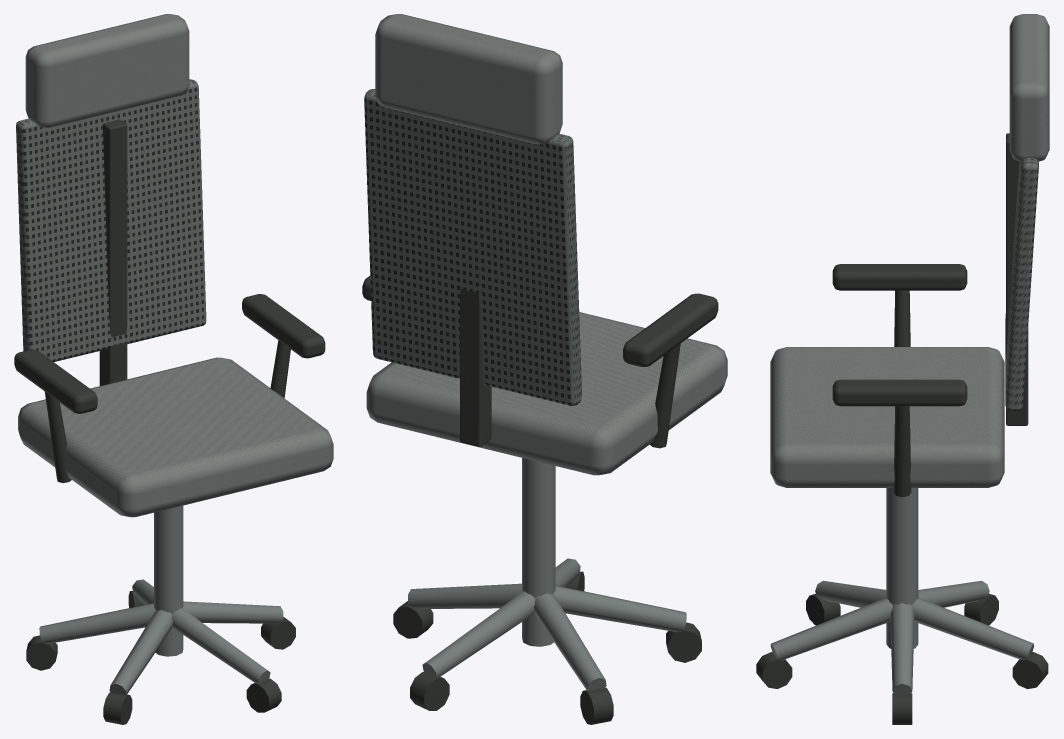
Rendered from markus-mobile.glb.
3 views of the same model, side by side, from view 1: azimuth 30°, elevation 25°; view 2: azimuth 150°, elevation 25°; view 3: azimuth 270°, elevation 25° (orthographic). The views are drawn at different scales.
Parts seen in each view (by area): view 1: MARKUS Office chair; view 2: MARKUS Office chair; view 3: MARKUS Office chair.
Part boxes in pixels (box(x1,y1,x2,y2)): MARKUS Office chair: box(14, 14, 333, 724); MARKUS Office chair: box(362, 14, 727, 724); MARKUS Office chair: box(756, 14, 1049, 724).
Size of the model in its own units: 0.62 by 1.4 by 0.6.
Materials: 4 (3 with a texture image).
